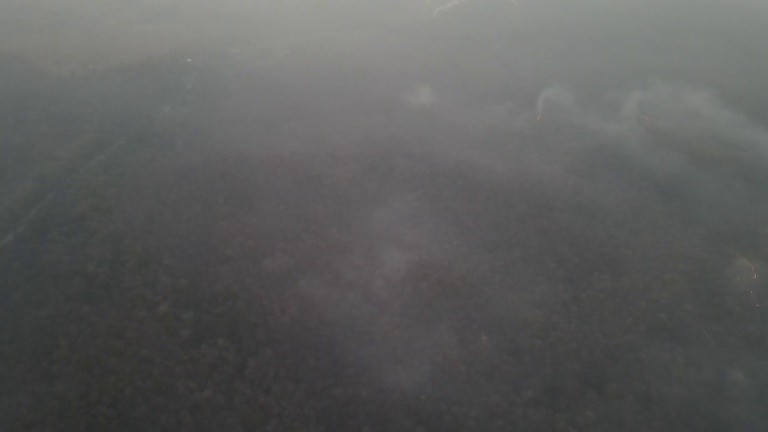fire: (729, 247, 768, 313), (636, 112, 656, 126), (531, 109, 543, 126)
smoke: (618, 76, 768, 198), (533, 86, 605, 136), (410, 79, 453, 116)
